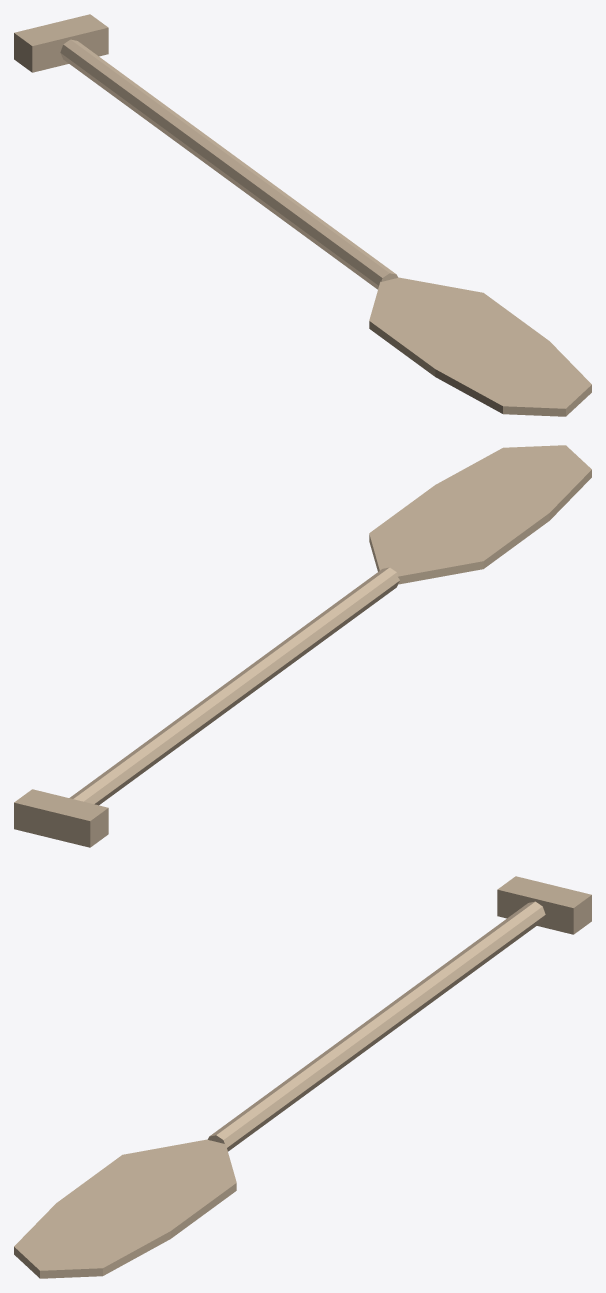
File: BoatPaddle.glb
3 renders of one model, top to bottom at view 1: azimuth 30°, elevation 25°; view 2: azimuth 150°, elevation 25°; view 3: azimuth 330°, elevation 25°, orthographic.
Visible parts, largest first — view 1: boat_paddle; view 2: boat_paddle; view 3: boat_paddle.
Boxes of the visible parts, bbox=[...] form: boat_paddle: bbox=[14, 14, 591, 416]; boat_paddle: bbox=[14, 445, 591, 847]; boat_paddle: bbox=[14, 876, 591, 1278].
Bounding box in the file's own units: 0.18 × 0.04 × 1.4.
